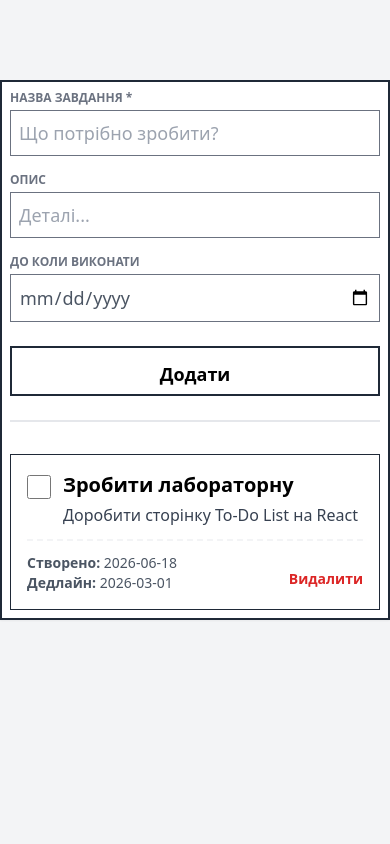
it: Компонент TodoList › повинен видаляти завдання зі списку
Click the button "Видалити" at {"x": 326, "y": 579}, box [289, 565, 363, 593]
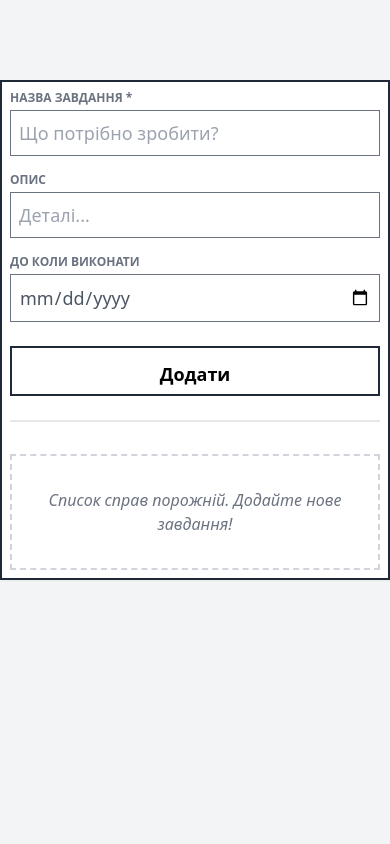
Expected: the heading "Зробити лабораторну" is gone
Expected: the text "Список справ порожній. Додайте нове завдання!" is shown, [10, 454, 380, 570]
